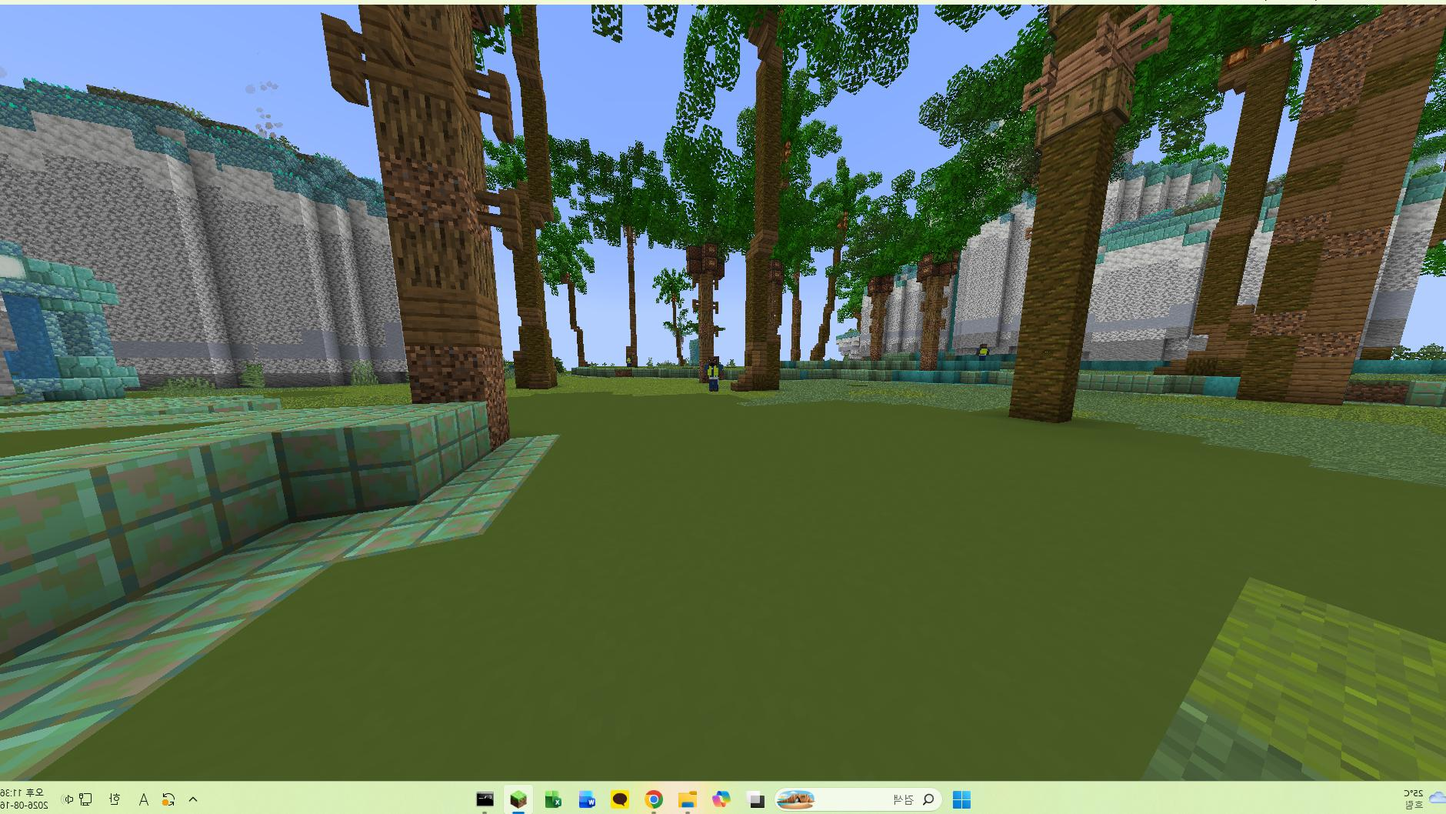Guardian: (702, 355, 721, 392)
